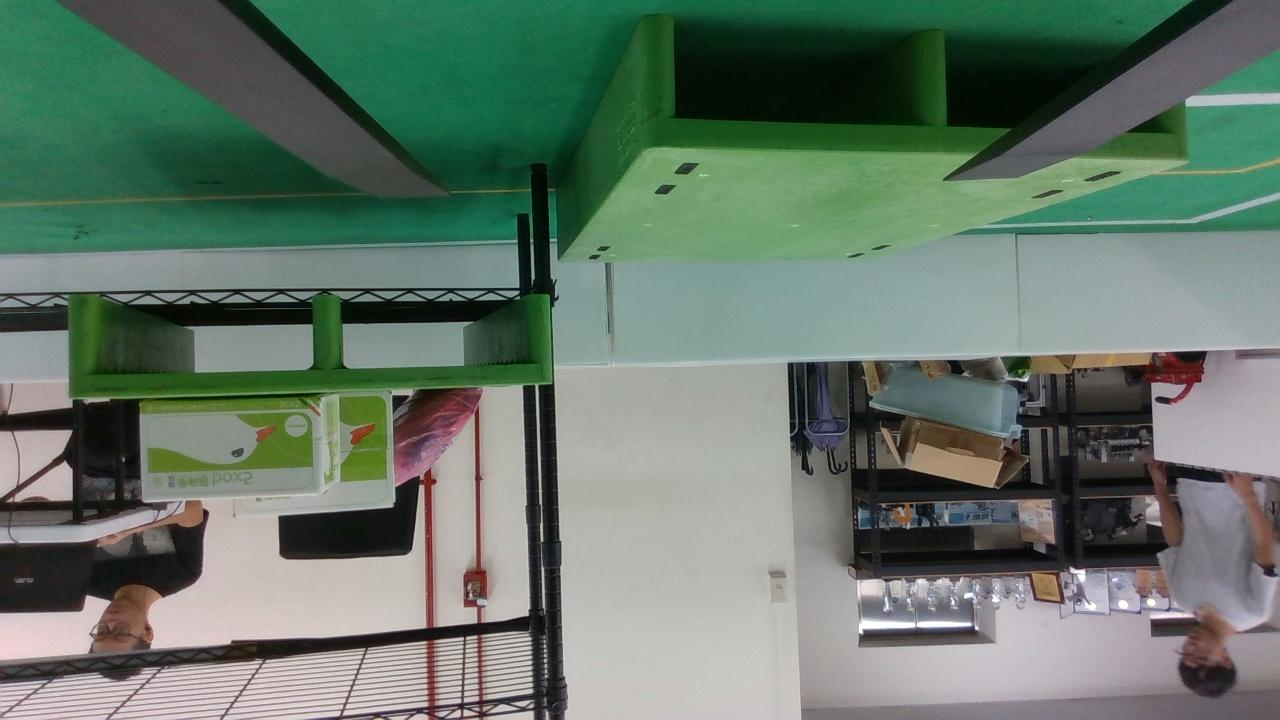Pallet: (639, 13, 1187, 163), (67, 292, 552, 398)
